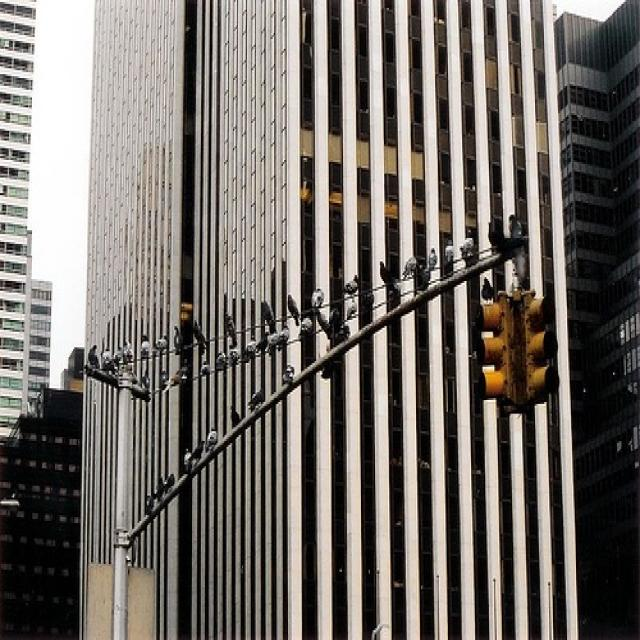pole: (111, 361, 136, 638)
